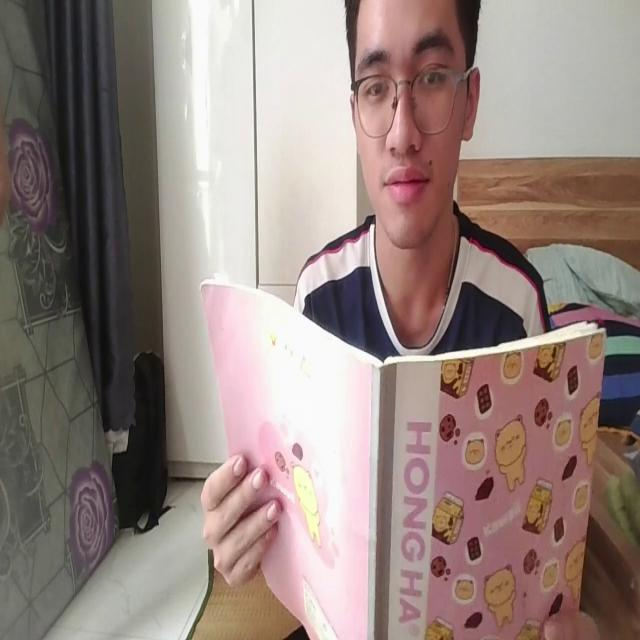book: (198, 259, 606, 640)
student: (194, 1, 608, 640)
